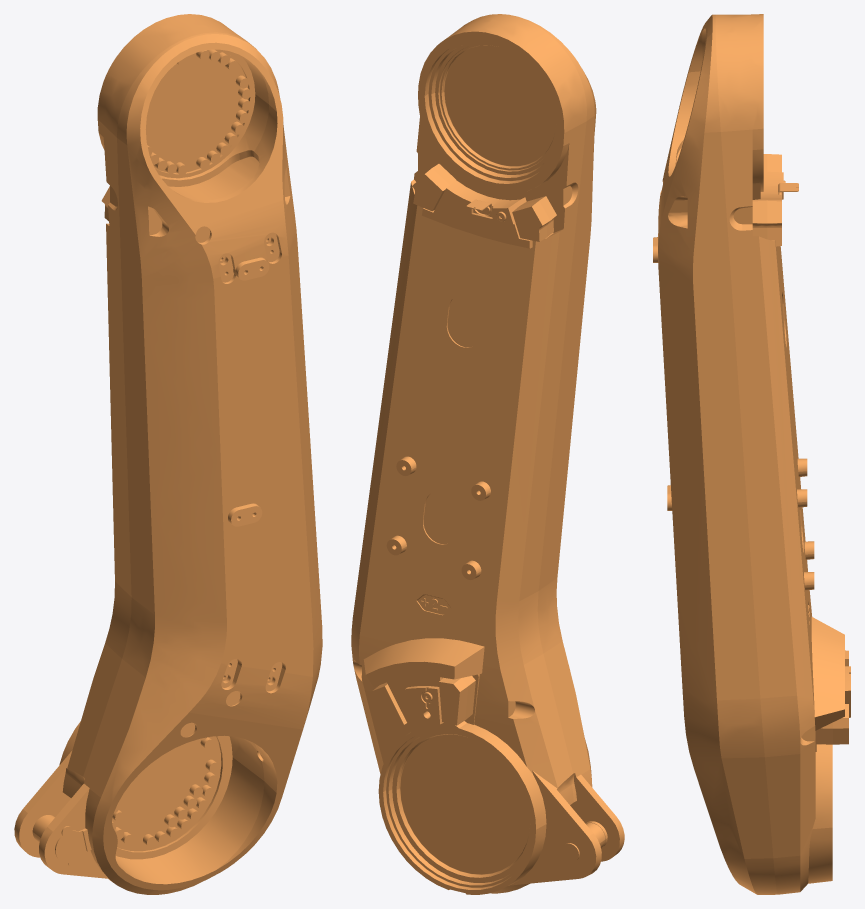
3 views of the same model, side by side, from view 1: azimuth 30°, elevation 25°; view 2: azimuth 150°, elevation 25°; view 3: azimuth 270°, elevation 25° (orthographic). The views are drawn at different scales.
Visible parts, largest first — view 1: mesh_0; view 2: mesh_0; view 3: mesh_0.
Part boxes in pixels (bbox=[...]): mesh_0: bbox=[14, 14, 322, 894]; mesh_0: bbox=[351, 14, 624, 894]; mesh_0: bbox=[653, 14, 850, 894].
Bounding box in the file's own units: 0.508 × 1.62 × 0.336.
